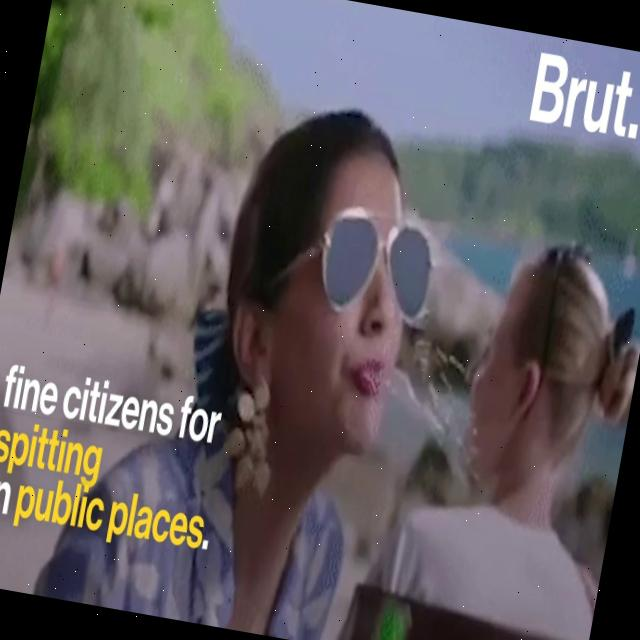spit: (240, 262, 580, 614)
